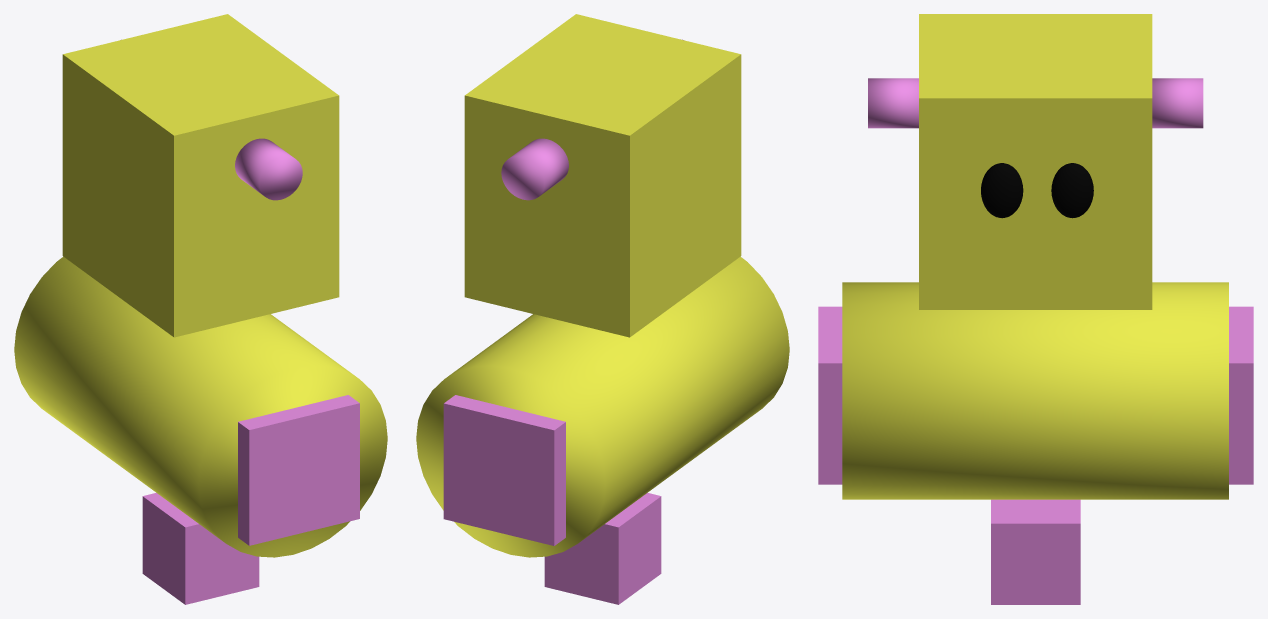
The model's file is cuadradin_avatar.gltf.
3 views of the same model, side by side, from view 1: azimuth 30°, elevation 25°; view 2: azimuth 150°, elevation 25°; view 3: azimuth 270°, elevation 25° (orthographic). The views are drawn at different scales.
Visible parts, largest first — view 1: Cubo, Cilindro, Cubo.001, Cubo.003, Cilindro.001; view 2: Cubo, Cilindro, Cubo.002, Cubo.003, Cilindro.002; view 3: Cilindro, Cubo, Cubo.003, Cubo.002, Cubo.001, Cilindro.002, Cilindro.001, Esfera, Esfera.001.
Boxes of the visible parts, x1,y1,x2,y2 form: Cubo: (62, 14, 339, 337); Cilindro: (14, 256, 387, 557); Cubo.001: (238, 395, 359, 545); Cubo.003: (142, 493, 259, 604); Cilindro.001: (235, 138, 302, 200); Cubo: (464, 14, 741, 337); Cilindro: (416, 256, 789, 557); Cubo.002: (443, 395, 565, 545); Cubo.003: (544, 493, 661, 604); Cilindro.002: (501, 138, 568, 200); Cilindro: (842, 282, 1228, 499); Cubo: (919, 14, 1152, 309); Cubo.003: (991, 499, 1080, 604); Cubo.002: (1229, 306, 1253, 484); Cubo.001: (818, 306, 842, 484); Cilindro.002: (1152, 78, 1203, 128); Cilindro.001: (868, 78, 918, 128); Esfera: (981, 163, 1023, 218); Esfera.001: (1051, 163, 1093, 218).
Size of the model in its own units: 1.04 by 2.6 by 1.94.
